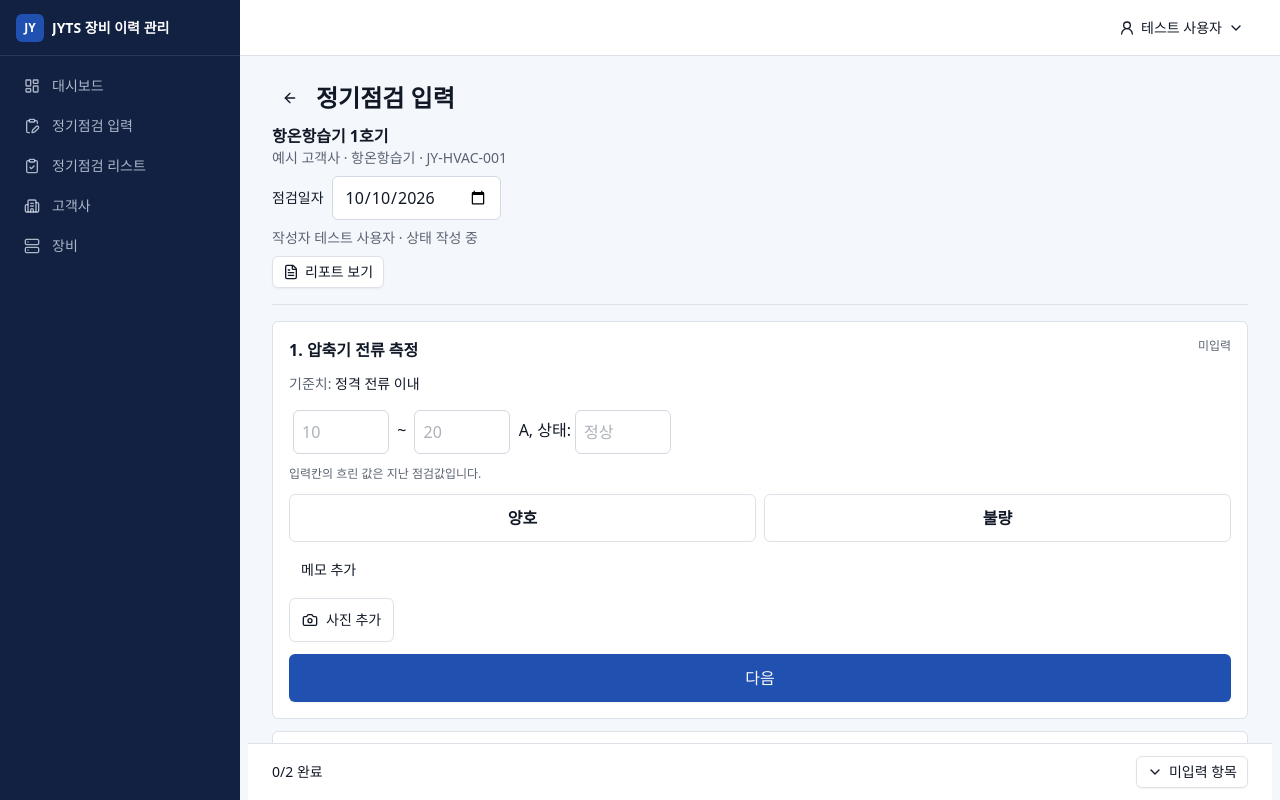
Test case: inspection input page › changes the inspection date from the default date
Type "2026-10-08" into the date field labelled "점검일자". click: {"x": 416, "y": 198}
box: [332,176,500,220]
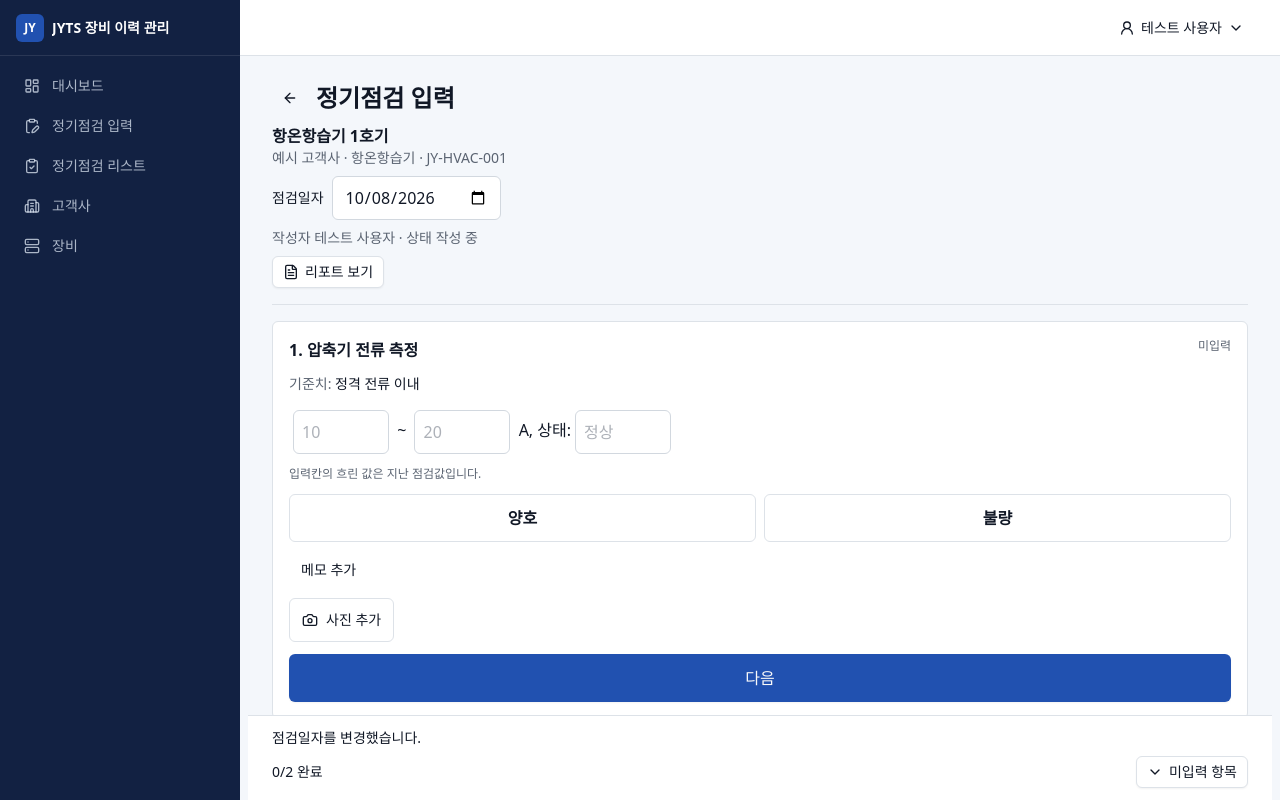
Check: the text "점검일자를 변경했습니다." is shown, box [272,728,421,747]
